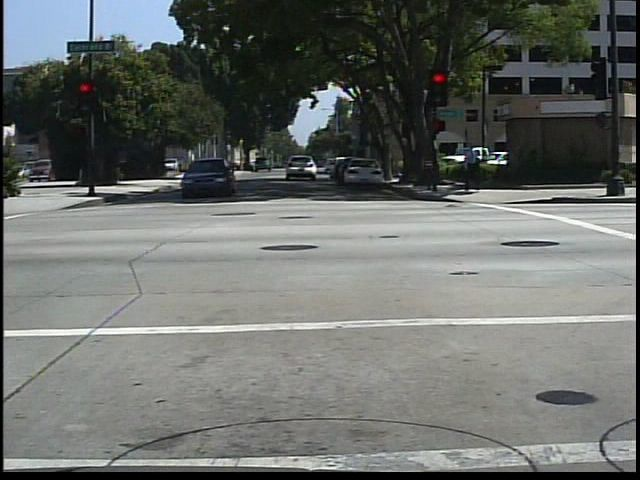person: (459, 138, 484, 195)
